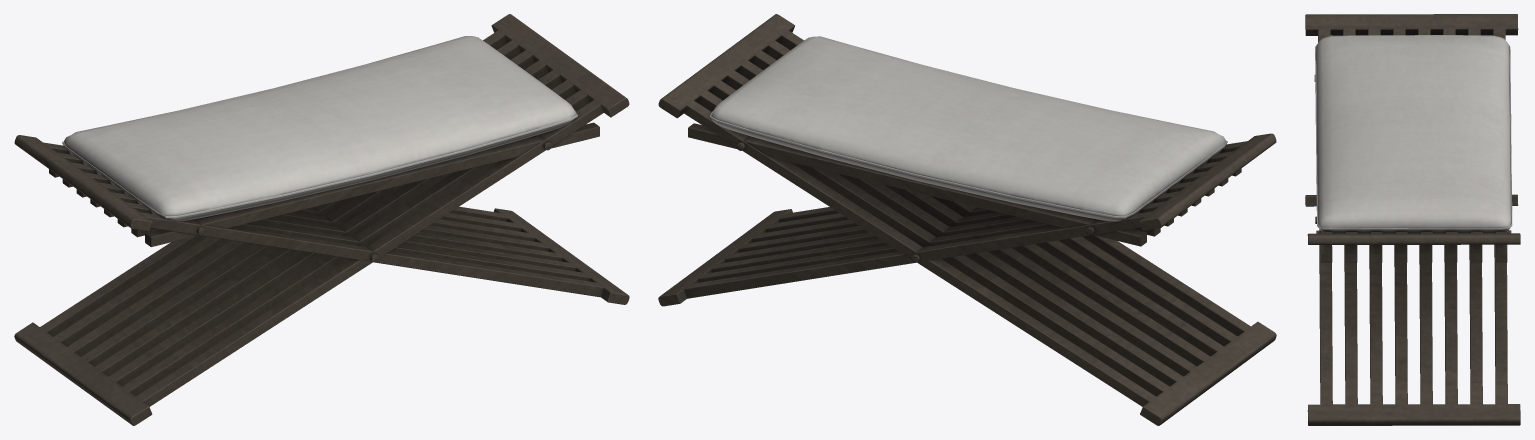
File: raw_model.obj
3 renders of one model, left to right at view 1: azimuth 30°, elevation 25°; view 2: azimuth 150°, elevation 25°; view 3: azimuth 270°, elevation 25°, orthographic. The views are drawn at different scales.
Parts seen in each view (by area): view 1: solid_001, solid_002; view 2: solid_001, solid_002; view 3: solid_002, solid_001.
Boxes of the visible parts, <box> form: solid_001: <box>14,14,629,425</box>; solid_002: <box>62,36,577,221</box>; solid_001: <box>658,14,1276,425</box>; solid_002: <box>709,36,1227,221</box>; solid_002: <box>1315,35,1512,233</box>; solid_001: <box>1305,14,1520,425</box>.
Size of the model in its own units: 1.25 by 0.5098 by 0.5044.
Materials: 1 (1 with a texture image).
